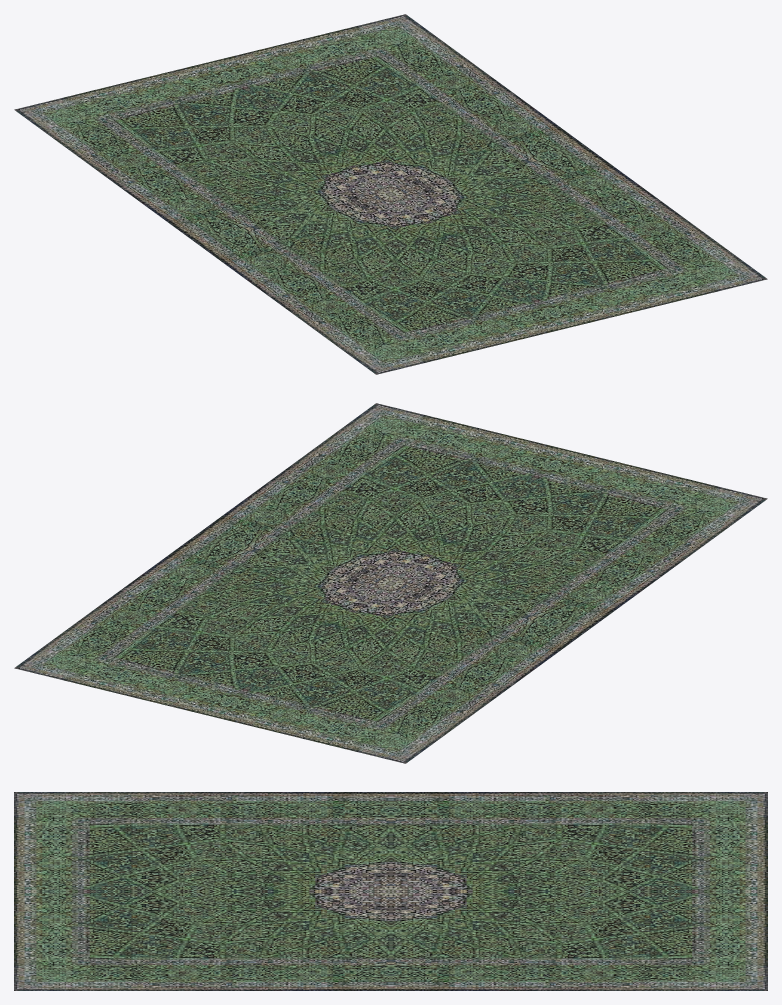
The model's file is frn_all_rug_rectangle_m_s02.fbx.
3 renders of one model, top to bottom at view 1: azimuth 30°, elevation 25°; view 2: azimuth 150°, elevation 25°; view 3: azimuth 270°, elevation 25°, orthographic. The views are drawn at different scales.
Parts seen in each view (by area): view 1: mesh_node; view 2: mesh_node; view 3: mesh_node.
Boxes of the visible parts, x1=… form: mesh_node: x1=14, y1=14, x2=767, y2=374; mesh_node: x1=14, y1=403, x2=767, y2=763; mesh_node: x1=14, y1=792, x2=767, y2=990.
Size of the model in its own units: 3.68 by 0 by 5.9.
Materials: 1 (1 with a texture image).
